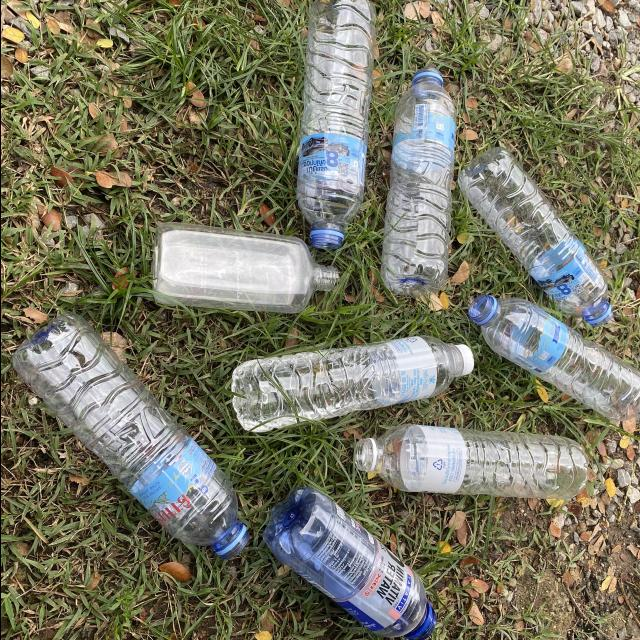plastik: (12, 313, 248, 559), (457, 147, 612, 326), (263, 487, 435, 640), (231, 335, 473, 433), (468, 294, 640, 421), (296, 0, 373, 249), (355, 425, 588, 501), (380, 67, 455, 297), (152, 222, 337, 313)
